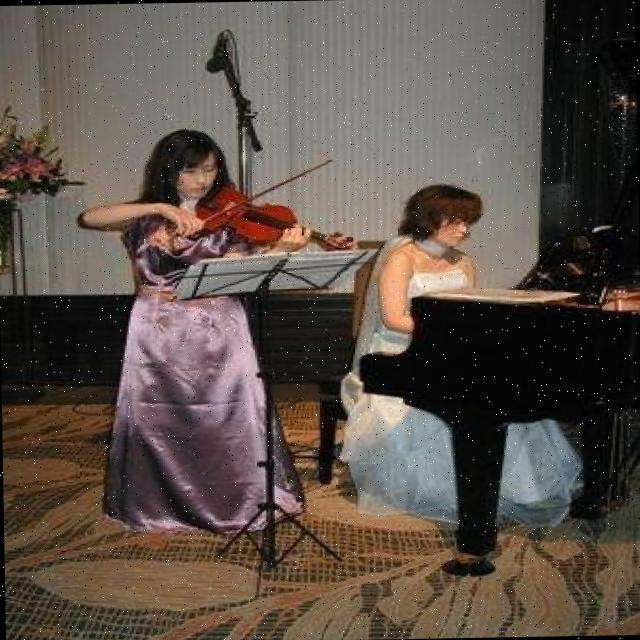violin: (190, 182, 364, 255)
